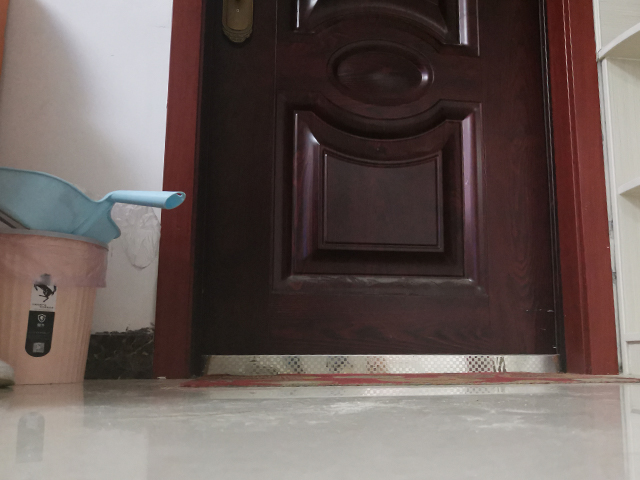carpet: (181, 371, 640, 387)
trashcan: (1, 229, 110, 385)
